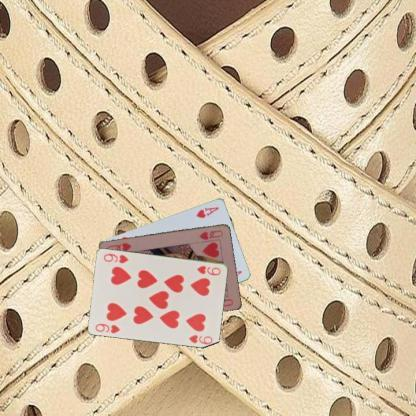9h: (92, 320, 121, 335), (194, 263, 222, 277)
Ah: (194, 204, 221, 219)
Qh: (197, 227, 224, 241)
